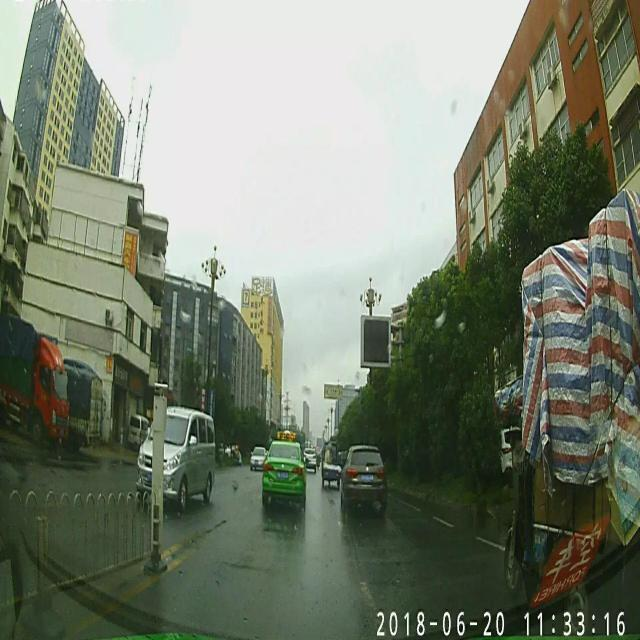car: (134, 404, 216, 504), (338, 444, 386, 510), (264, 436, 306, 506), (320, 442, 342, 482), (252, 443, 266, 468)
